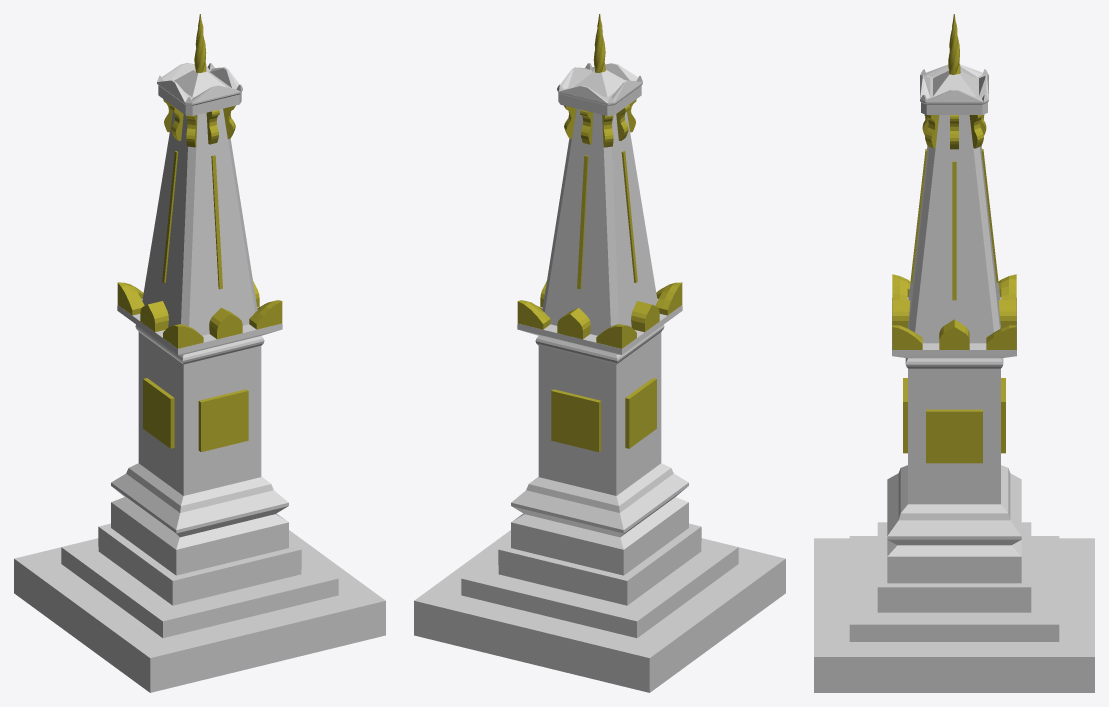
File: Env_TuguJogja_01a.fbx
The picture shows the model from 3 angles, left to right: view 1: azimuth 30°, elevation 25°; view 2: azimuth 150°, elevation 25°; view 3: azimuth 270°, elevation 25°; orthographic projection. The views are drawn at different scales.
Parts seen in each view (by area): view 1: Tugu Jogja; view 2: Tugu Jogja; view 3: Tugu Jogja.
Part boxes in pixels (box(x1,y1,x2,y2)): Tugu Jogja: box(14, 14, 385, 692); Tugu Jogja: box(414, 14, 785, 692); Tugu Jogja: box(814, 14, 1094, 692).
Bounding box in the file's own units: 146 × 356 × 146.
